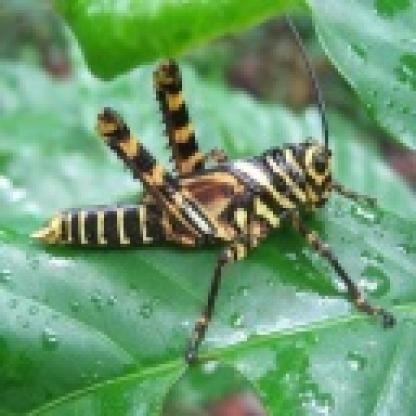grasshopper: (40, 57, 371, 339)
